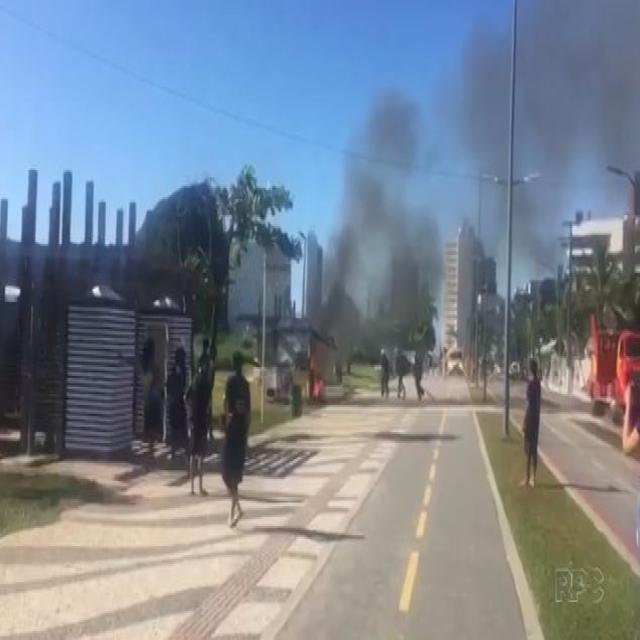Fire: (308, 348, 322, 401)
Smoke: (460, 0, 640, 262), (332, 98, 432, 353)
